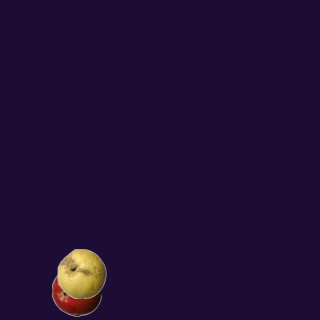Apple Braeburn: (51, 266, 101, 316)
Apple Golden 1: (56, 248, 106, 298)
